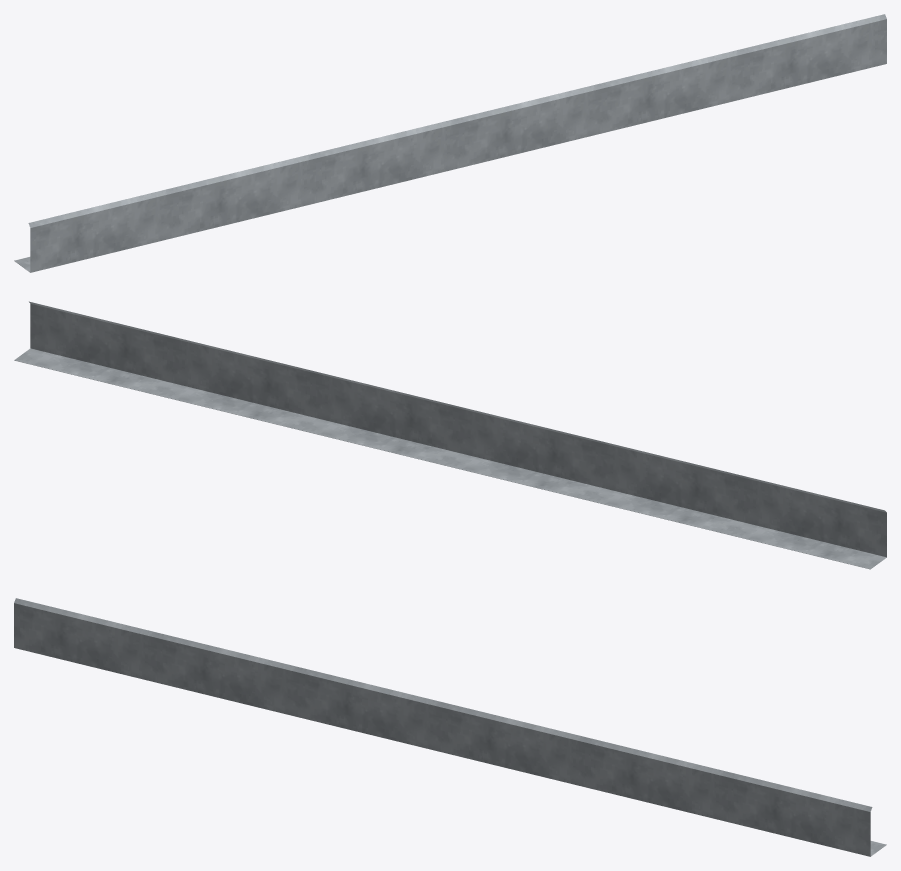
Rendered from COB-CAL-003_lod1.glb.
3 views of the same model, one above another, from view 1: azimuth 30°, elevation 25°; view 2: azimuth 150°, elevation 25°; view 3: azimuth 330°, elevation 25° (orthographic).
Parts seen in each view (by area): view 1: COB-CAL-003_perfil; view 2: COB-CAL-003_perfil; view 3: COB-CAL-003_perfil.
Boxes of the visible parts, <box> form: COB-CAL-003_perfil: <box>14,14,886,272</box>; COB-CAL-003_perfil: <box>14,301,886,569</box>; COB-CAL-003_perfil: <box>14,598,886,856</box>.
Bounding box in the file's own units: 3 × 0.1621 × 0.1.
Materials: 1 (1 with a texture image).
